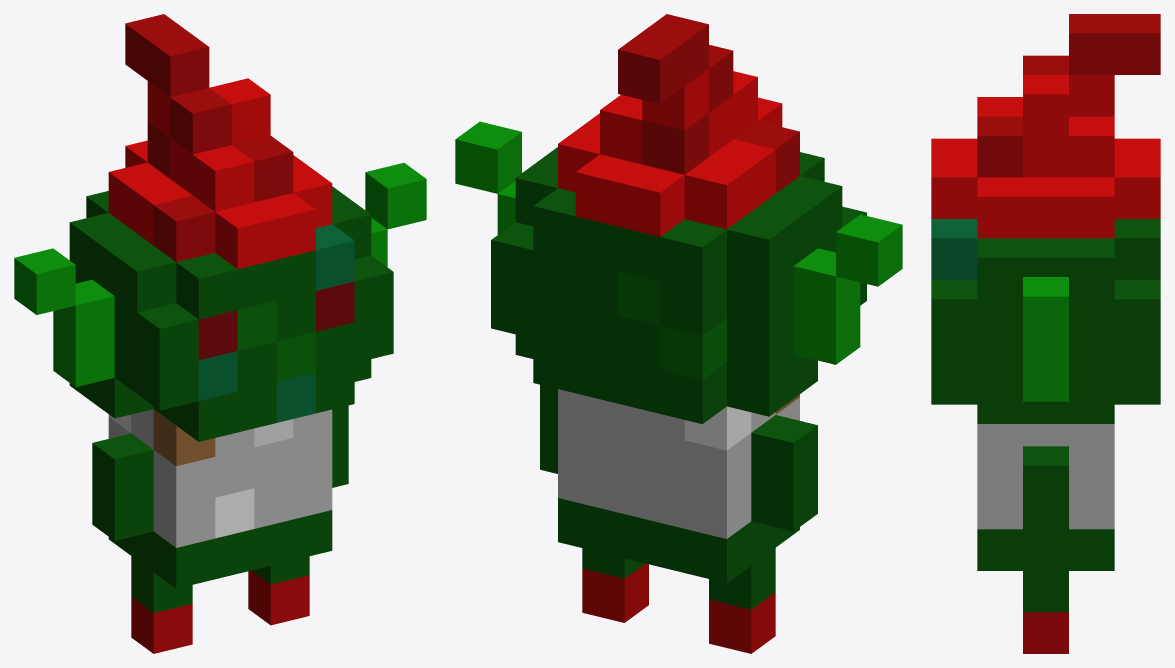
The model's file is Idle0.obj.
3 views of the same model, side by side, from view 1: azimuth 30°, elevation 25°; view 2: azimuth 150°, elevation 25°; view 3: azimuth 270°, elevation 25° (orthographic). The views are drawn at different scales.
Bounding box in the file's own units: 1 × 1.4 × 0.5.
